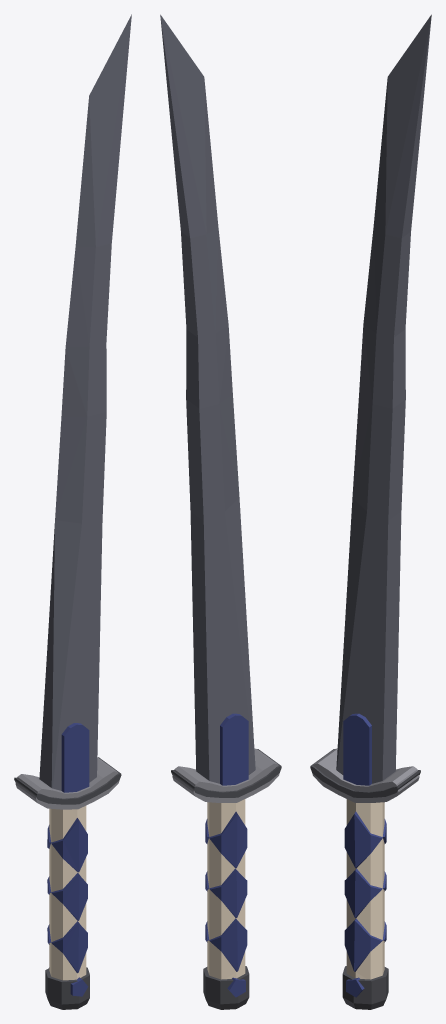
Rendered from _sword_9.fbx.
3 renders of one model, left to right at view 1: azimuth 30°, elevation 25°; view 2: azimuth 210°, elevation 25°; view 3: azimuth 330°, elevation 25°, orthographic. The views are drawn at different scales.
Visible parts, largest first — view 1: sword_9; view 2: sword_9; view 3: sword_9.
Part boxes in pixels (bbox=[...]): sword_9: bbox=[14, 14, 131, 1009]; sword_9: bbox=[160, 14, 281, 1009]; sword_9: bbox=[310, 14, 431, 1009].
Bounding box in the file's own units: 12.35 × 108 × 4.81.
